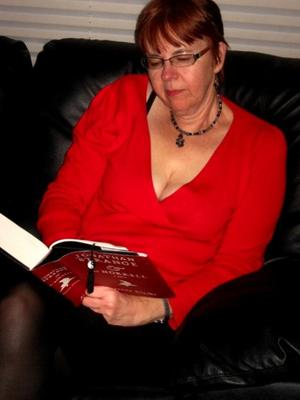person: (1, 1, 288, 400)
